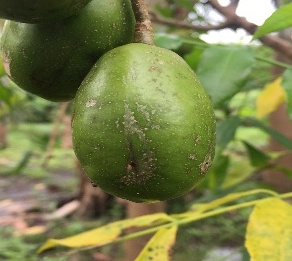Coc: (69, 33, 231, 195)
